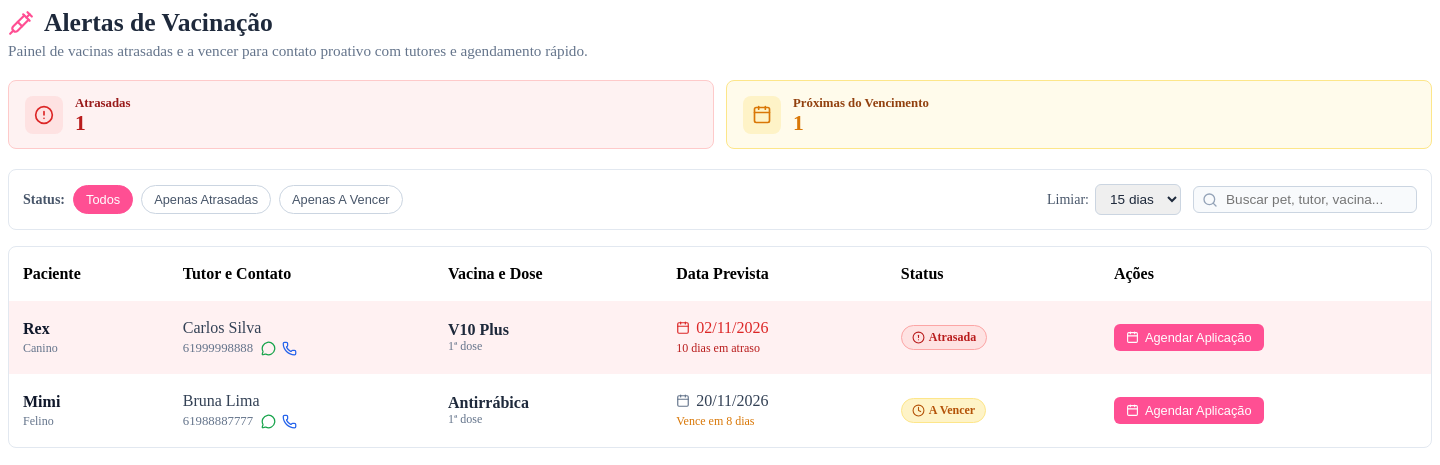
Test case: VaccinationAlertsPage — Painel de Alertas de Vacinação (EVO-06) › deve filtrar os alertas em tempo real através do campo de busca
The image size is (1440, 465).
Expected: the text "Rex" is shown, [23,320,50,336]
Type "Mimi" into the field with test id "search-alerts-input" at (1316, 200), box [1224,191,1408,208]
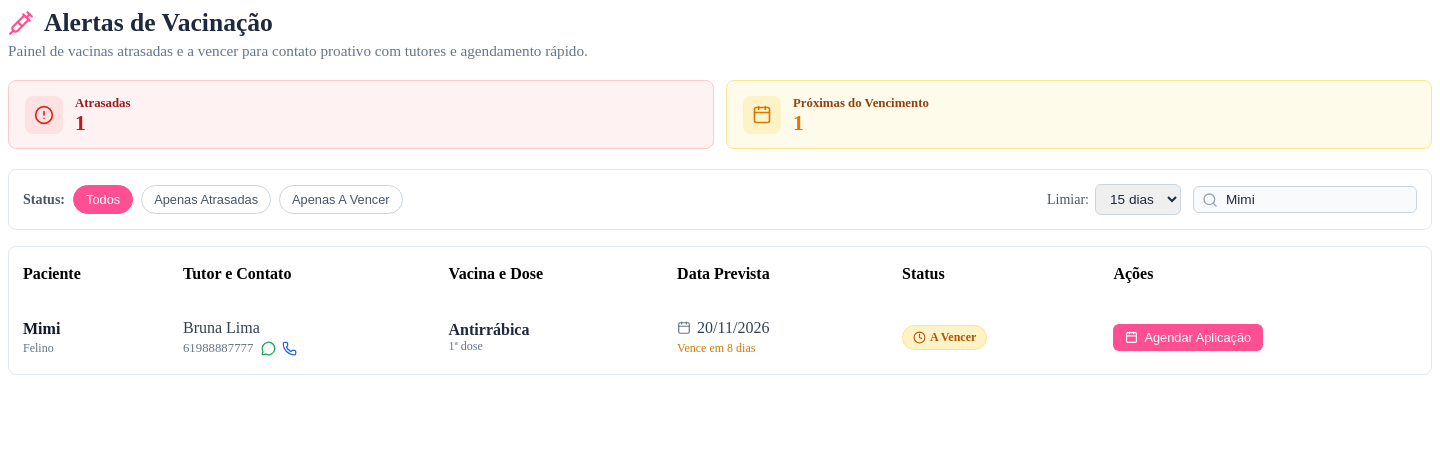
Expected: the text "Mimi" is shown, [23,320,60,336]
Expected: the text "Rex" is gone
